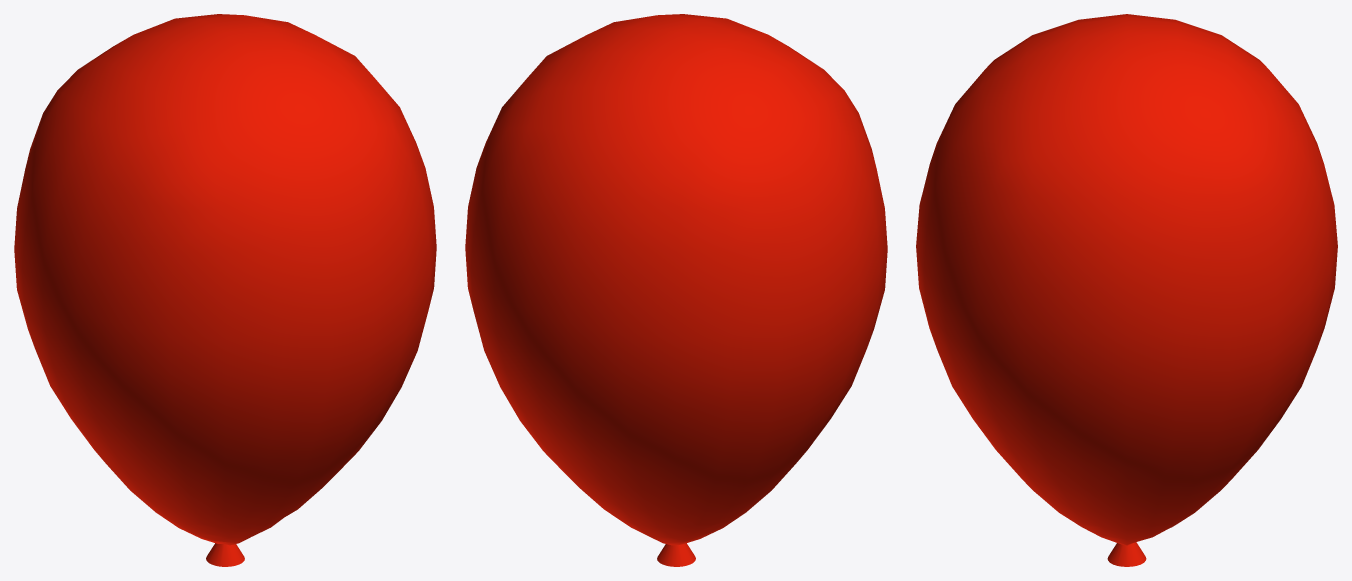
Rendered from Balloon.fbx.
The picture shows the model from 3 angles, left to right: view 1: azimuth 30°, elevation 25°; view 2: azimuth 150°, elevation 25°; view 3: azimuth 270°, elevation 25°; orthographic projection.
Parts seen in each view (by area): view 1: Balloon; view 2: Balloon; view 3: Balloon.
Boxes of the visible parts, x1,y1,x2,y2 form: Balloon: (14,14,436,566); Balloon: (465,14,887,566); Balloon: (916,14,1337,566).
Size of the model in its own units: 97.39 by 134 by 97.39.
